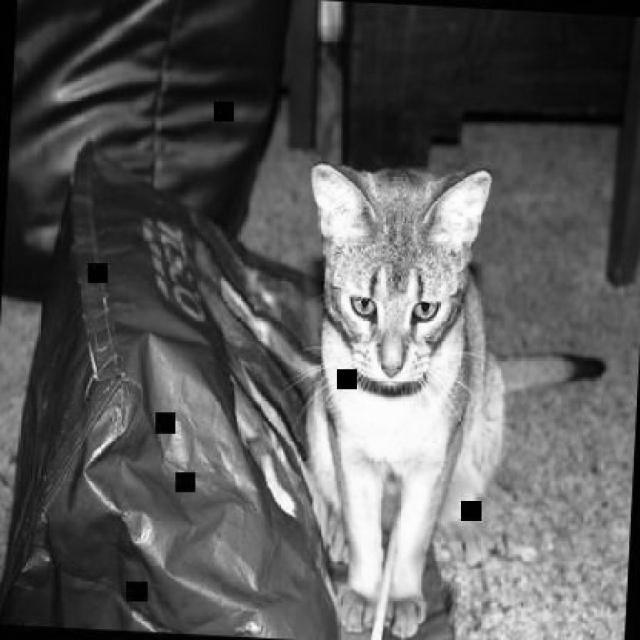Cat: (284, 156, 614, 638)
